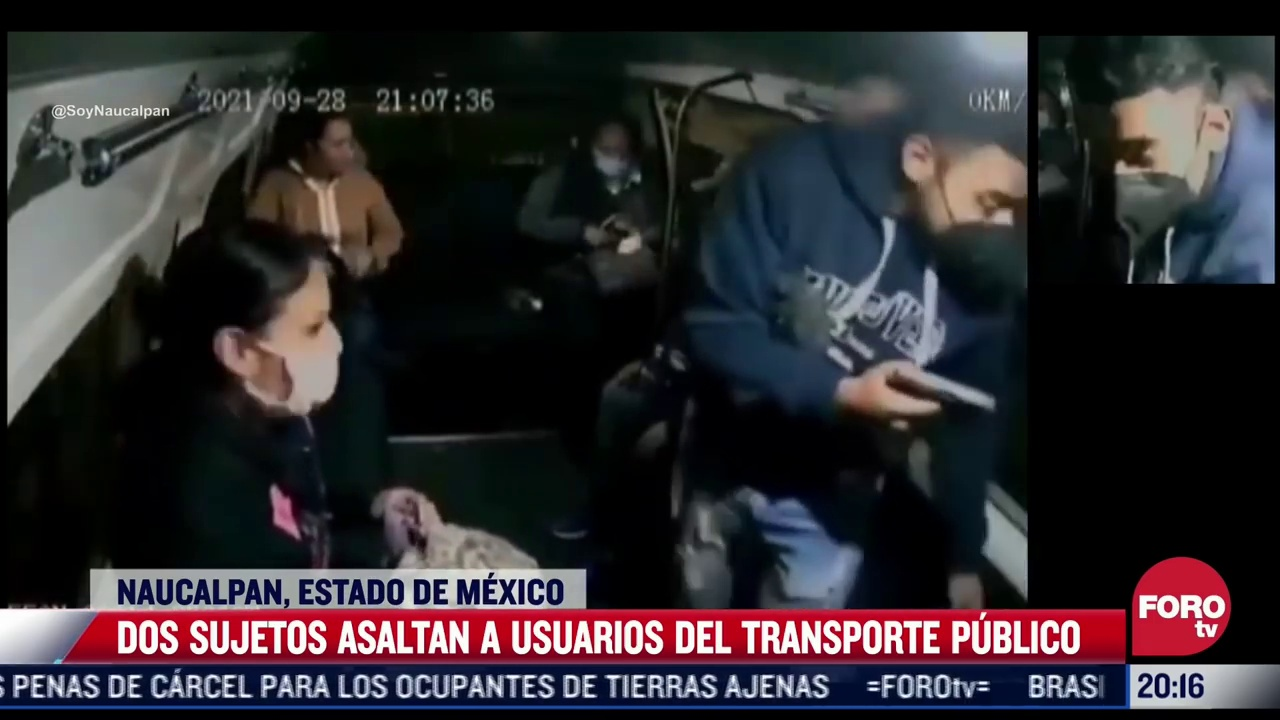pistol: (888, 366, 997, 417)
